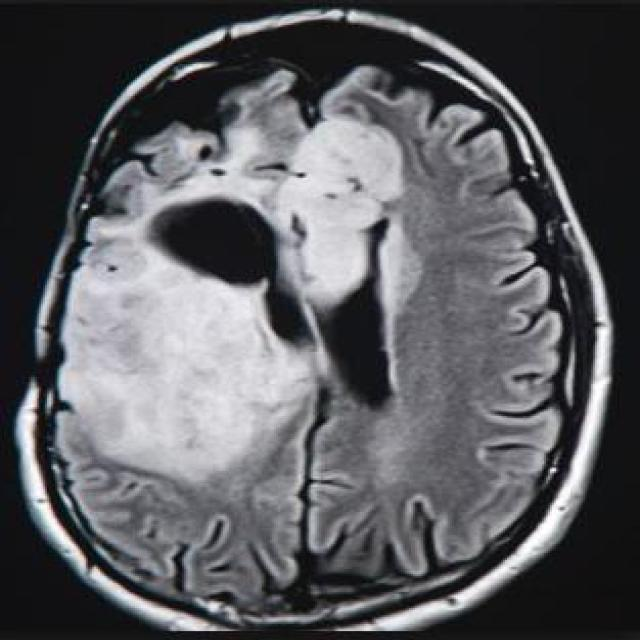Tumor-Cell: (76, 127, 414, 448)
